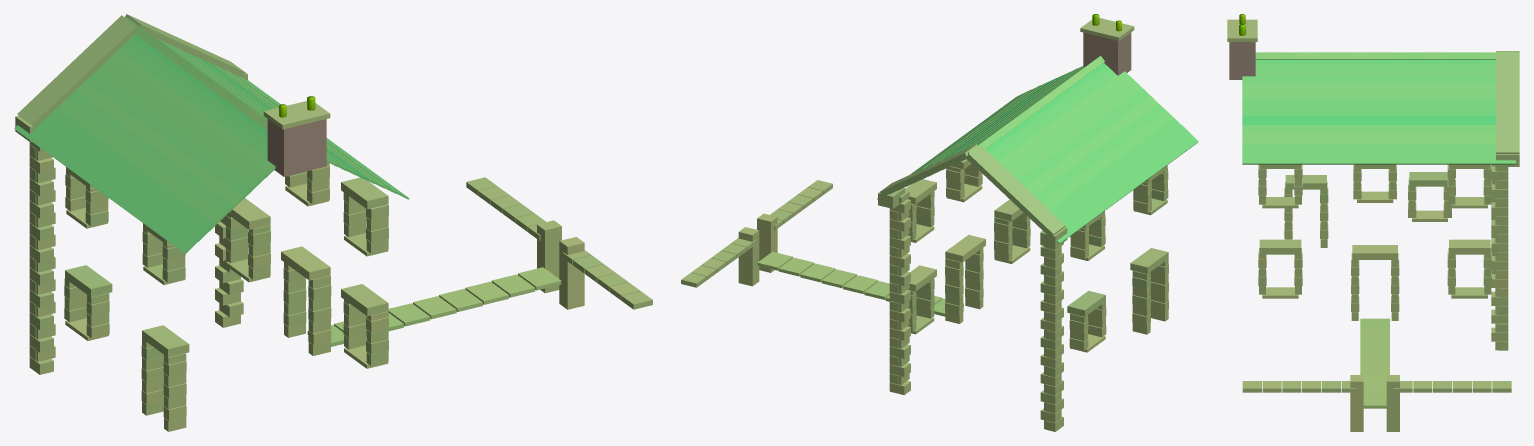
Rendered from SM_Bld_090_Stone.glb.
The picture shows the model from 3 angles, left to right: view 1: azimuth 30°, elevation 25°; view 2: azimuth 150°, elevation 25°; view 3: azimuth 270°, elevation 25°; orthographic projection. The views are drawn at different scales.
Visible parts, largest first — view 1: SM_Bld_090_Stone; view 2: SM_Bld_090_Stone; view 3: SM_Bld_090_Stone.
Boxes of the visible parts, box(x1,y1,x2,y2) form: SM_Bld_090_Stone: box(14, 14, 652, 431); SM_Bld_090_Stone: box(681, 14, 1198, 431); SM_Bld_090_Stone: box(1227, 14, 1519, 431).
Size of the model in its own units: 13.17 by 9.74 by 8.88.
